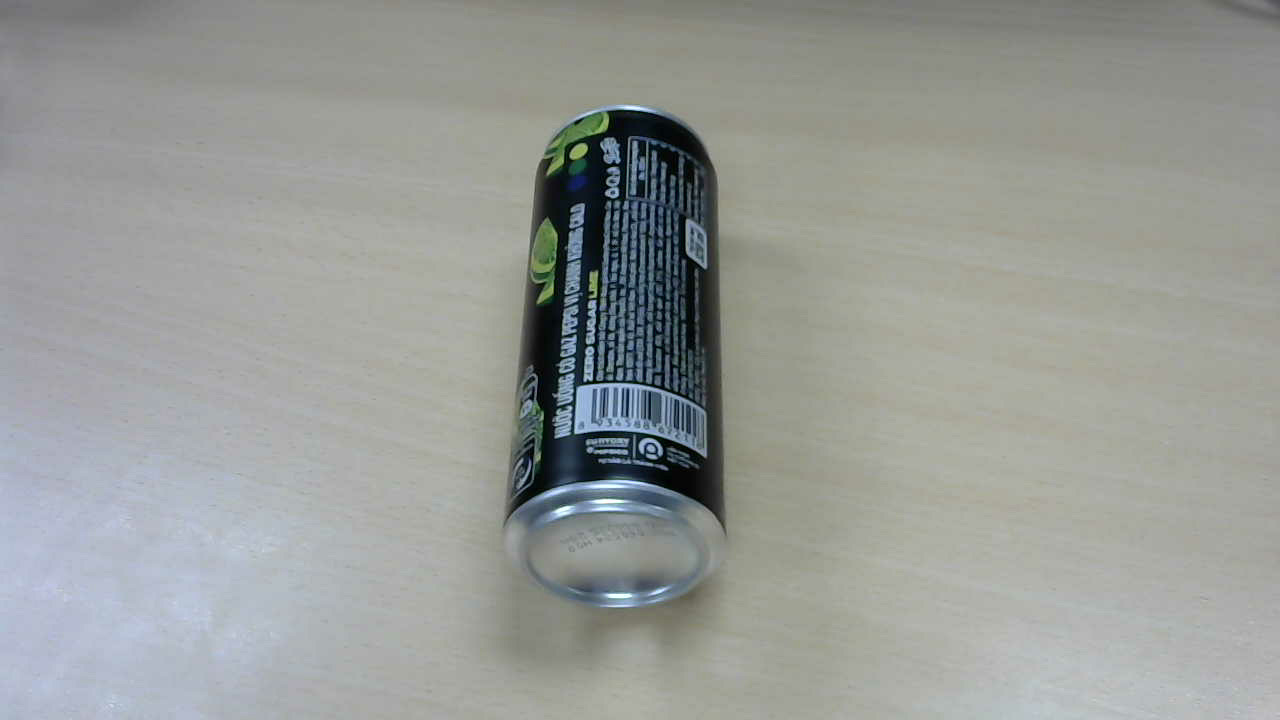Pepsi: (506, 106, 732, 606)
